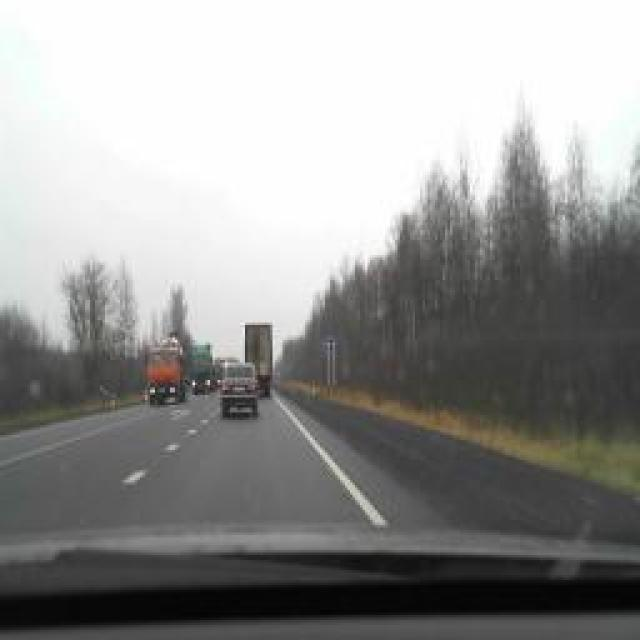sign: (324, 337, 336, 355)
